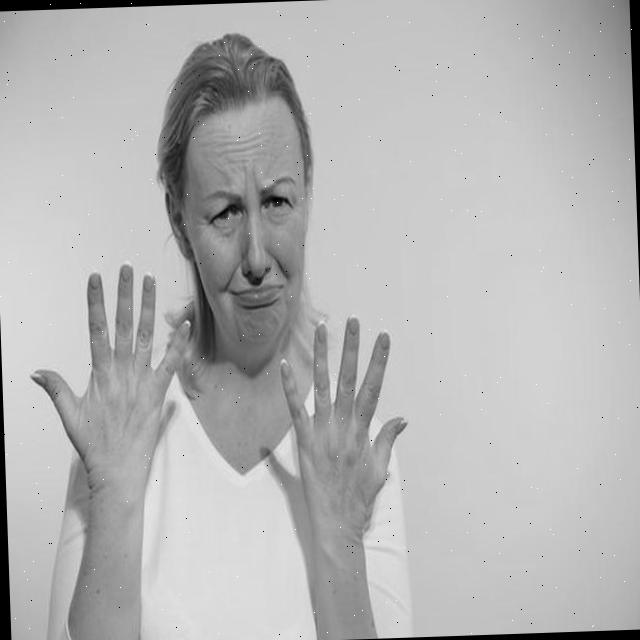Disgust: (180, 100, 312, 354)
